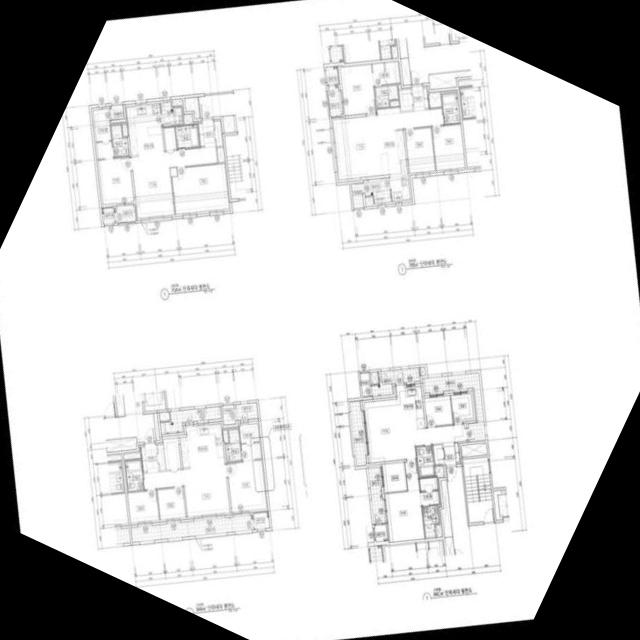background: (0, 0, 640, 640)
space_balconi: (424, 373, 486, 442), (131, 515, 254, 543), (161, 407, 222, 434), (372, 368, 420, 396), (350, 401, 367, 467), (369, 467, 385, 524), (364, 178, 392, 204), (161, 102, 183, 126), (328, 85, 343, 117), (114, 205, 136, 223), (236, 403, 259, 420)
space_bedroom: (386, 461, 425, 542), (172, 164, 229, 214), (227, 460, 266, 512), (340, 64, 376, 116), (98, 157, 134, 205), (432, 124, 465, 170), (406, 128, 436, 173), (128, 490, 159, 523), (157, 488, 186, 520), (424, 396, 453, 427), (451, 394, 473, 424)
space_dressroom: (93, 109, 114, 159), (239, 423, 261, 461), (372, 62, 400, 86), (420, 478, 439, 506)
space_front: (198, 119, 223, 148), (141, 443, 159, 473), (412, 85, 429, 111), (443, 442, 460, 464)
space_kitchen: (126, 104, 165, 156), (180, 424, 225, 468), (385, 129, 411, 202), (396, 385, 425, 431)
space_living_room: (333, 107, 444, 180), (364, 399, 466, 463), (132, 147, 218, 218), (143, 465, 230, 517)
space_multipurpose_space: (382, 462, 407, 493)
space_other: (441, 480, 453, 538), (163, 438, 181, 470), (184, 97, 200, 119), (462, 443, 487, 457), (351, 183, 364, 208), (399, 89, 413, 111), (164, 127, 177, 150), (400, 58, 411, 85), (222, 405, 236, 425), (360, 373, 371, 397), (157, 445, 166, 471), (433, 445, 444, 465), (223, 115, 235, 133), (110, 105, 124, 120), (429, 93, 442, 108), (154, 413, 160, 441), (124, 453, 141, 460), (217, 147, 224, 163), (435, 466, 444, 477), (371, 372, 379, 384), (160, 412, 170, 421), (183, 115, 193, 124), (223, 430, 229, 443), (122, 124, 128, 137), (436, 525, 441, 537), (172, 101, 182, 107), (366, 197, 373, 205), (420, 367, 426, 376), (390, 101, 399, 107)
space_outdoor_room: (254, 512, 270, 530), (326, 66, 339, 85), (375, 525, 388, 542), (102, 208, 115, 224)
space_staircase: (463, 457, 494, 523)
space_toilet: (125, 460, 144, 492), (416, 446, 435, 478), (422, 505, 439, 539), (442, 92, 460, 124), (111, 125, 129, 157), (176, 124, 199, 149), (225, 429, 242, 462), (375, 85, 399, 108)
